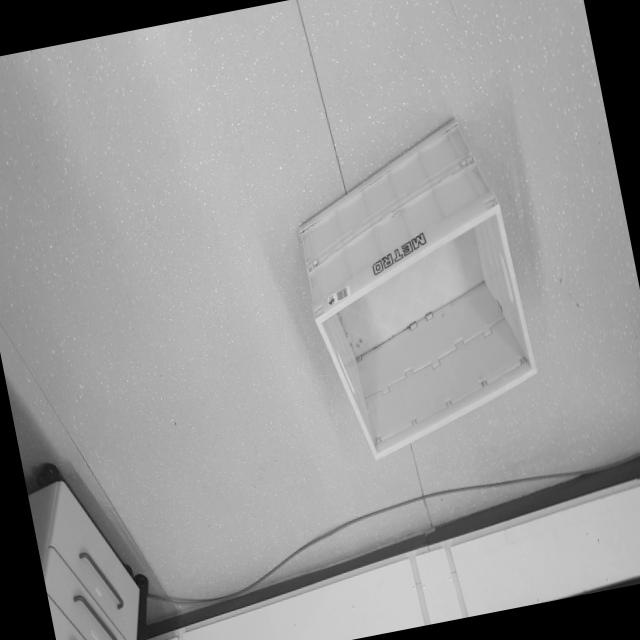box: (274, 98, 567, 476)
